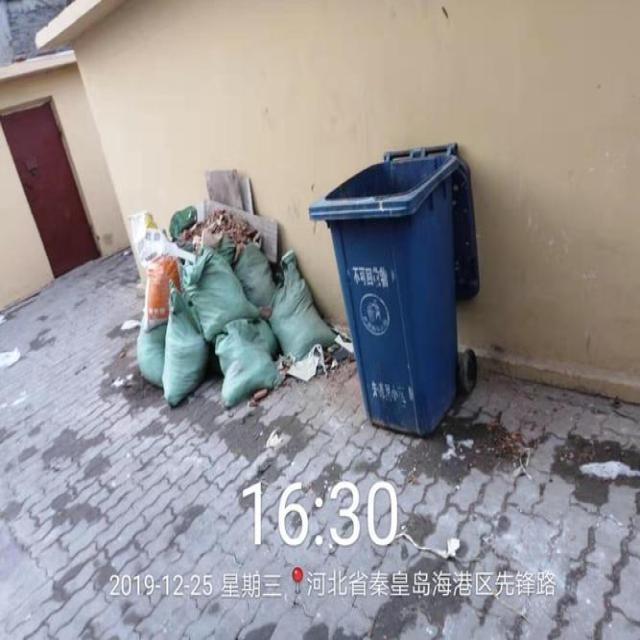garbage_bin: (308, 141, 478, 435)
